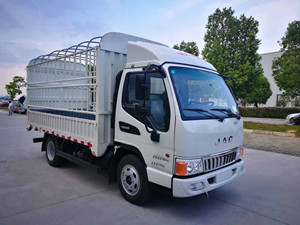smalltruck: (18, 30, 252, 207)
